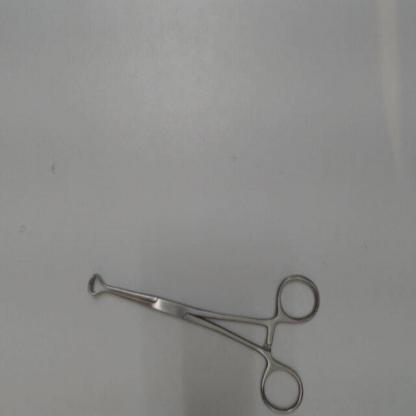Babcock Tissue Forceps: (84, 267, 323, 413)
